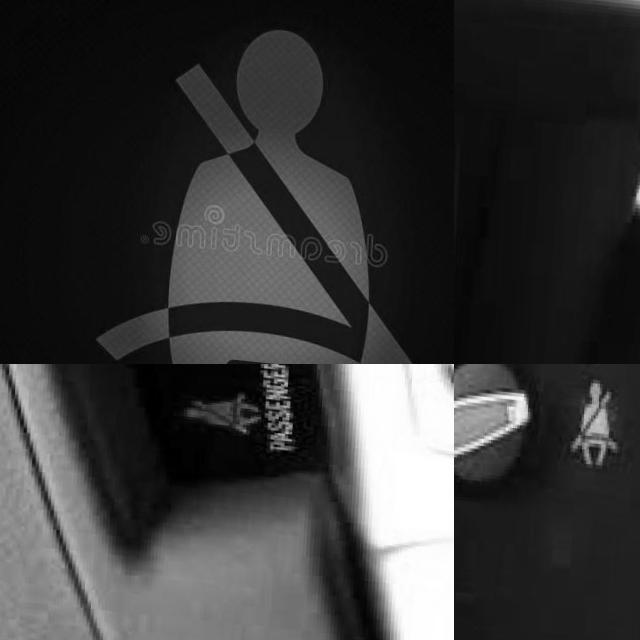Seat Belt: (98, 9, 439, 364), (575, 369, 623, 461), (185, 387, 266, 428)
